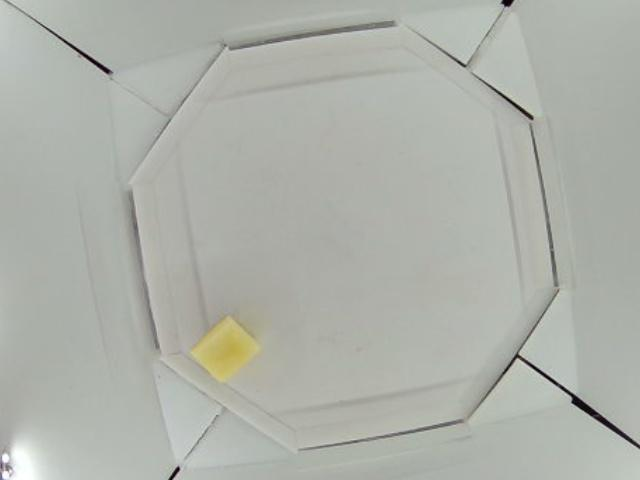Potato: (193, 317, 261, 382)
